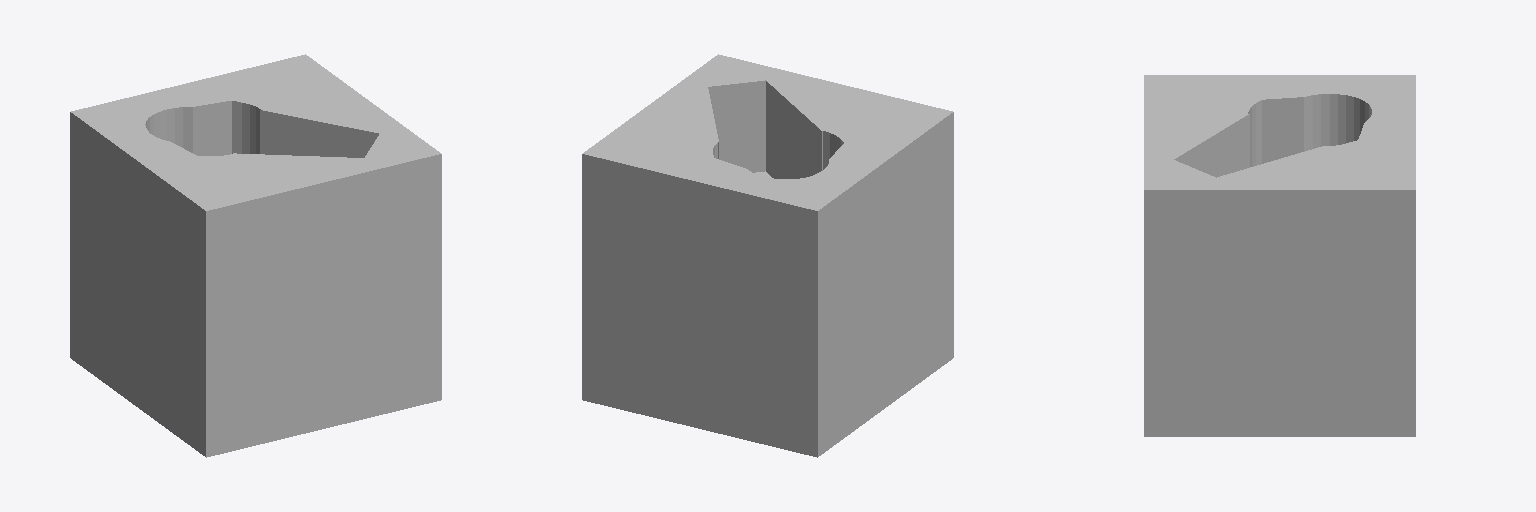
Rendered from Key_cube_bottle_rotated45_preprocessed.obj.
3 views of the same model, side by side, from view 1: azimuth 30°, elevation 25°; view 2: azimuth 150°, elevation 25°; view 3: azimuth 270°, elevation 25° (orthographic).
Bounding box in the file's own units: 0.08 × 0.08 × 0.08.